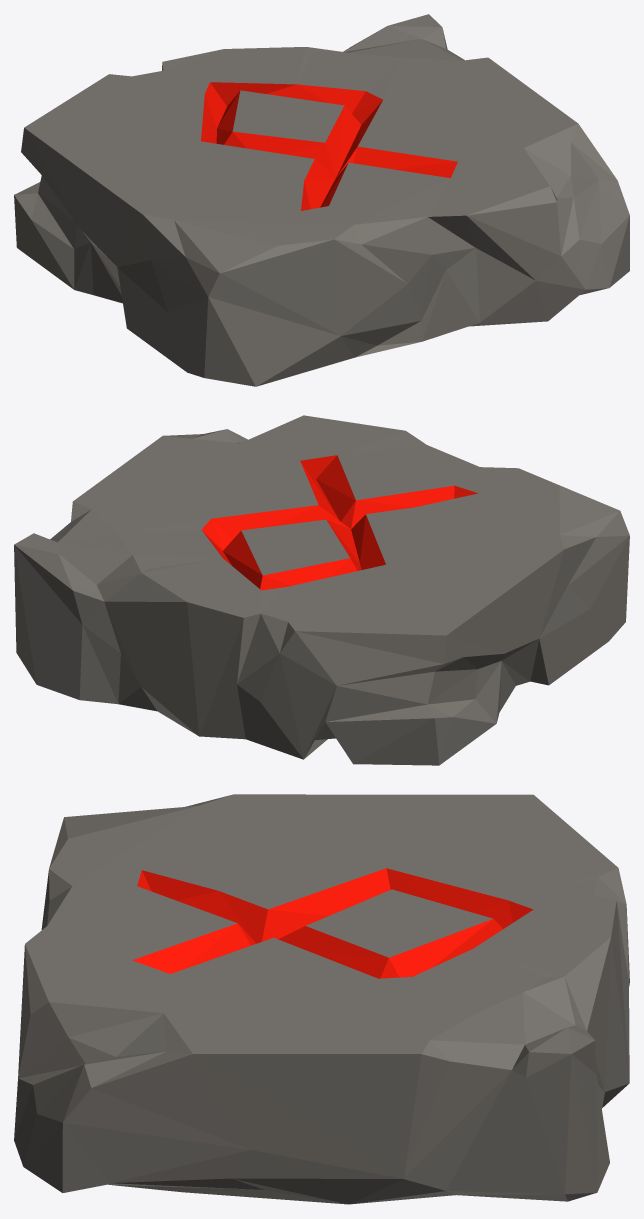
File: SM_Env_Rune_Square_03.fbx
3 renders of one model, top to bottom at view 1: azimuth 30°, elevation 25°; view 2: azimuth 150°, elevation 25°; view 3: azimuth 270°, elevation 25°, orthographic. The views are drawn at different scales.
Parts seen in each view (by area): view 1: SM_Env_Rune_Square_03; view 2: SM_Env_Rune_Square_03; view 3: SM_Env_Rune_Square_03.
Boxes of the visible parts, x1=… form: SM_Env_Rune_Square_03: x1=14, y1=14, x2=629, y2=386; SM_Env_Rune_Square_03: x1=14, y1=415, x2=629, y2=765; SM_Env_Rune_Square_03: x1=14, y1=794, x2=629, y2=1204.
Size of the model in its own units: 0.9593 by 0.2738 by 0.9616.
